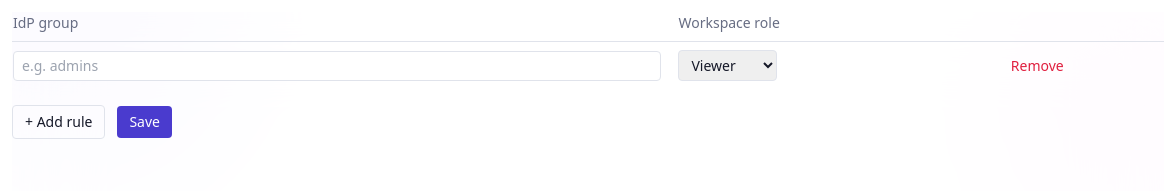
Test case: GroupRuleEditor › shows validation error when a group name is empty
Click the button with test id "group-rule-save": (145, 122) x1=117 y1=106 x2=172 y2=138
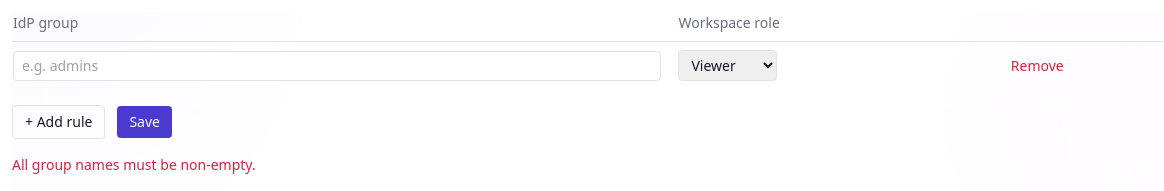
Check: the message "All group names must be non-empty." is shown, box x1=12 y1=155 x2=256 y2=174
